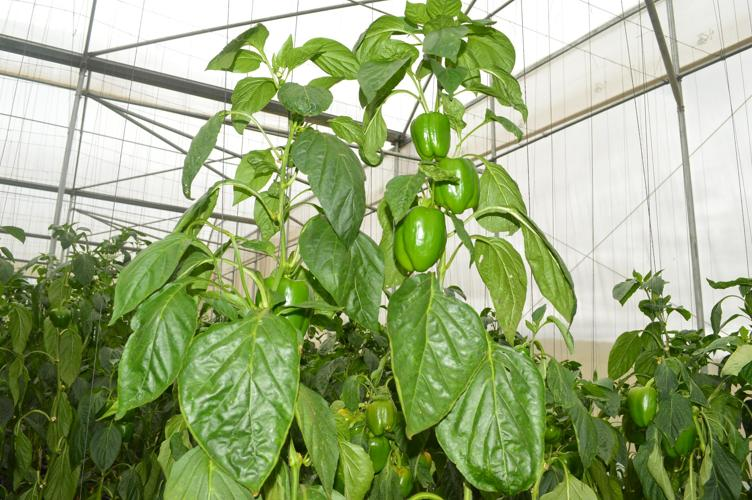BellPepper: (389, 198, 458, 278), (426, 155, 493, 221), (400, 112, 468, 164), (613, 376, 662, 431), (662, 416, 700, 466), (357, 397, 402, 436), (363, 430, 389, 474)
